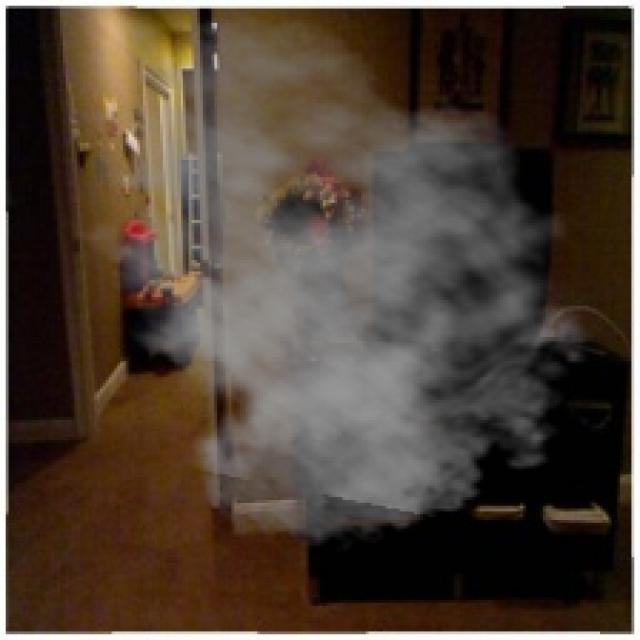Smoke: (57, 12, 612, 554)
